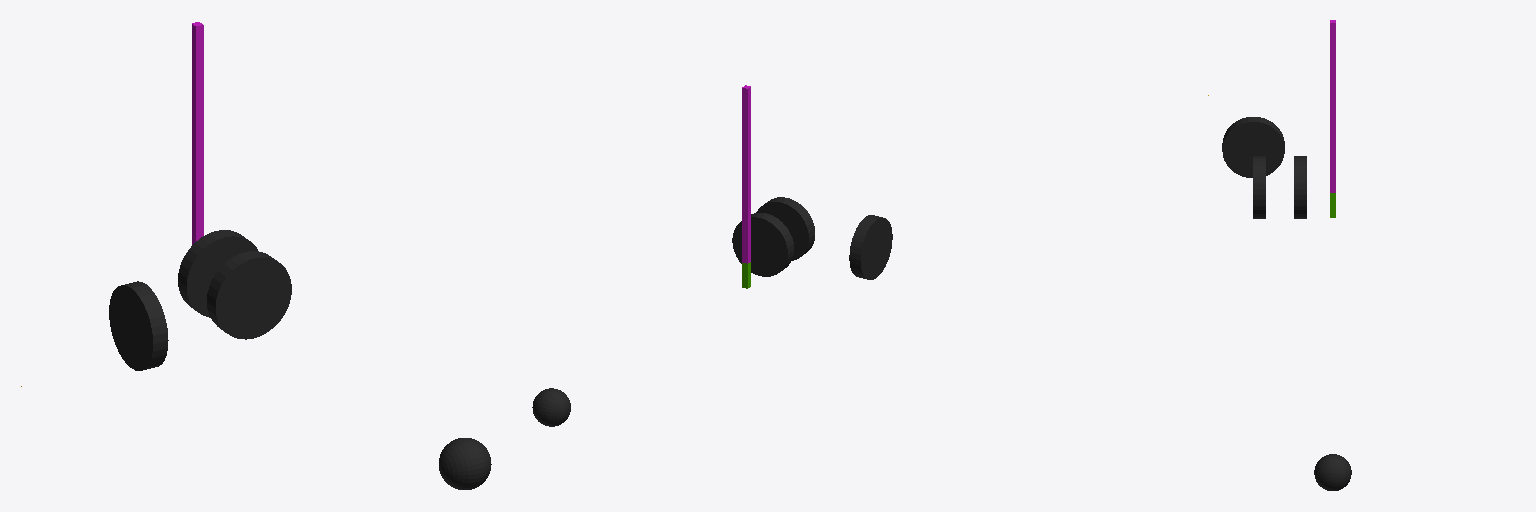
URDF robot description (b1_leg_description):
<?xml version="1.0" ?>
<!-- =================================================================================== -->
<!-- |    This document was autogenerated by xacro from robot.xacro                    | -->
<!-- |    EDITING THIS FILE BY HAND IS NOT RECOMMENDED                                 | -->
<!-- =================================================================================== -->
<robot name="b1_leg_description">
  <material name="grey">
    <color rgba="0.2 0.2 0.2 1.0"/>
  </material>
  <material name="silver">
    <color rgba="0.6980 0.7529 0.8392 1"/>
  </material>
  <material name="transparent_silver">
    <color rgba="0.75 0.75 0.75 0.3"/>
  </material>
  <link name="base">
    <inertial>
      <mass value="1e-6"/>
      <inertia ixx="1e-6" ixy="1e-6" ixz="1e-6" iyy="1e-6" iyz="1e-6" izz="1e-6"/>
    </inertial>
    <visual>
      <origin rpy="0 0 0" xyz="0 0 0"/>
      <geometry>
        <box size="0.001 0.001 0.001"/>
      </geometry>
    </visual>
  </link>
  <joint name="floating_base" type="fixed">
    <origin rpy="0 0 0" xyz="0 0 0"/>
    <parent link="base"/>
    <child link="trunk"/>
  </joint>
  <link name="trunk">
    <visual>
      <origin rpy="0 0 0" xyz="0 0 0"/>
      <geometry>
        <mesh filename="package://example-robot-data/robots/b1_description/meshes/trunk.dae" scale="1 1 1"/>
      </geometry>
      <material name="silver"/>
    </visual>
    <collision>
      <origin rpy="0 0 0" xyz="0 0 0"/>
      <geometry>
        <box size="0.647 0.3 0.15"/>
      </geometry>
    </collision>
    <inertial>
      <origin rpy="0 0 0" xyz="0.008987 0.002243 0.003013"/>
      <mass value="25"/>
      <inertia ixx="0.183142146" ixy="-0.001379002" ixz="-0.027956055" iyy="0.756327752" iyz="0.000193774" izz="0.783777558"/>
    </inertial>
  </link>
  

  <joint name="FL_hip_joint" type="revolute">
    <origin rpy="0 0 0" xyz="0.3455 0.072 0"/>
    <parent link="trunk"/>
    <child link="FL_hip"/>
    <axis xyz="1 0 0"/>
    <dynamics damping="0" friction="0"/>
    <limit effort="91.0035" lower="-0.75" upper="0.75" velocity="19.69"/>
  </joint>
  <joint name="FL_hip_rotor_joint" type="fixed">
    <origin rpy="0 0 0" xyz="0.1955 0.072 0"/>
    <parent link="trunk"/>
    <child link="FL_hip_rotor"/>
  </joint>
  <link name="FL_hip">
    <visual>
      <origin rpy="0 0 0" xyz="0 0 0"/>
      <geometry>
        <mesh filename="package://example-robot-data/robots/b1_description/meshes/hip.dae" scale="1 1 1"/>
      </geometry>
      <material name="silver"/>
    </visual>
    <collision>
      <origin rpy="1.5707963267948966 0 0" xyz="0 0.12675 0"/>
      <geometry>
        <cylinder length="0.04" radius="0.09"/>
      </geometry>
    </collision>
    <inertial>
      <origin rpy="0 0 0" xyz="-0.020298 0.009758 0.000109"/>
      <mass value="2.1"/>
      <inertia ixx="0.00406608" ixy="-0.000288071" ixz="-4.371e-06" iyy="0.008775259" iyz="1.811e-06" izz="0.006060348"/>
    </inertial>
  </link>
  <link name="FL_hip_rotor">
    <visual>
      <origin rpy="0 1.5707963267948966 0" xyz="0 0 0"/>
      <geometry>
        <cylinder length="0.02" radius="0.05"/>
      </geometry>
      <material name="grey"/>
    </visual>
    <collision>
      <origin rpy="0 1.5707963267948966 0" xyz="0 0 0"/>
      <geometry>
        <cylinder length="0.02" radius="0.05"/>
      </geometry>
    </collision>
    <inertial>
      <origin rpy="0 0 0" xyz="0.0 0.0 0.0"/>
      <mass value="0.199"/>
      <inertia ixx="0.00039249" ixy="0.0" ixz="0.0" iyy="0.000219397" iyz="0.0" izz="0.000219397"/>
    </inertial>
  </link>
  <joint name="FL_thigh_joint" type="revolute">
    <origin rpy="0 0 0" xyz="0 0.12675 0"/>
    <parent link="FL_hip"/>
    <child link="FL_thigh"/>
    <axis xyz="0 1 0"/>
    <dynamics damping="0" friction="0"/>
    <limit effort="93.33" lower="-1.0" upper="3.5" velocity="23.32"/>
  </joint>
  <joint name="FL_thigh_rotor_joint" type="fixed">
    <origin rpy="0 0 0" xyz="0.0 0.00935 0"/>
    <parent link="FL_hip"/>
    <child link="FL_thigh_rotor"/>
  </joint>
  <link name="FL_thigh">
    <visual>
      <origin rpy="0 0 0" xyz="0 0 0"/>
      <geometry>
        <mesh filename="package://example-robot-data/robots/b1_description/meshes/thigh.dae" scale="1 1 1"/>
      </geometry>
      <material name="transparent_silver"/>
    </visual>
    <collision>
      <origin rpy="0 1.5707963267948966 0" xyz="0 0 -0.175"/>
      <geometry>
        <box size="0.35 0.05 0.08"/>
      </geometry>
    </collision>
    <inertial>
      <origin rpy="0 0 0" xyz="-0.000235 -0.028704 -0.054169"/>
      <mass value="3.934"/>
      <inertia ixx="0.044459086" ixy="0.000128738" ixz="-0.002343913" iyy="0.046023457" iyz="0.006032996" izz="0.008696078"/>
    </inertial>
  </link>
  <link name="FL_thigh_rotor">
    <visual>
      <origin rpy="1.5707963267948966 0 0" xyz="0 0 0"/>
      <geometry>
        <cylinder length="0.02" radius="0.05"/>
      </geometry>
      <material name="grey"/>
    </visual>
    <collision>
      <origin rpy="1.5707963267948966 0 0" xyz="0 0 0"/>
      <geometry>
        <cylinder length="0.02" radius="0.05"/>
      </geometry>
    </collision>
    <inertial>
      <origin rpy="0 0 0" xyz="0.0 0.0 0.0"/>
      <mass value="0.266"/>
      <inertia ixx="0.000485657" ixy="0.0" ixz="0.0" iyy="0.00091885" iyz="0.0" izz="0.000485657"/>
    </inertial>
  </link>
  <joint name="FL_calf_joint" type="revolute">
    <origin rpy="0 0 0" xyz="0 0 -0.35"/>
    <parent link="FL_thigh"/>
    <child link="FL_calf"/>
    <axis xyz="0 1 0"/>
    <dynamics damping="0" friction="0"/>
    <limit effort="140" lower="-2.6" upper="-0.6" velocity="15.55"/>
  </joint>
  <joint name="FL_calf_rotor_joint" type="fixed">
    <origin rpy="0 0 0" xyz="0.0 -0.0519 0"/>
    <parent link="FL_thigh"/>
    <child link="FL_calf_rotor"/>
  </joint>
  <link name="FL_calf">
    <visual>
      <origin rpy="0 0 0" xyz="0 0 0"/>
      <geometry>
        <mesh filename="package://example-robot-data/robots/b1_description/meshes/calf.dae" scale="1 1 1"/>
      </geometry>
      <material name="">
        <color rgba="0 0.514 0.706 1"/>
      </material>
    </visual>
    <collision>
      <origin rpy="0 1.5707963267948966 0" xyz="0 0 -0.175"/>
      <geometry>
        <box size="0.35 0.04 0.05"/>
      </geometry>
    </collision>
    <inertial>
      <origin rpy="0 0 0" xyz="0.005237 0.0 -0.202805"/>
      <mass value="0.857"/>
      <inertia ixx="0.015011003" ixy="5.2e-08" ixz="0.000250042" iyy="0.015159462" iyz="4.61e-07" izz="0.000375749"/>
    </inertial>
  </link>
  <!-- Crank Bar 1: from FL_calf -->
  <!-- we do not create this link as is part of the calf -->
  <!-- Crank Bar 2: from FL_thigh -->
  <link name="crank_bar2">
    <visual>
      <origin xyz="0 0 0.0215" rpy="0 0 0"/>
      <geometry>
        <box size="0.01 0.01 0.043"/>
      </geometry>
      <material name="">
        <color rgba="0.306 0.718 0 1"/>
      </material>
    </visual>
    <inertial>
      <origin xyz="0 0 0.075"/>
      <mass value="0.1"/>
      <inertia ixx="1e-5" iyy="1e-5" izz="1e-5"
              ixy="0" ixz="0" iyz="0"/>
    </inertial>
  </link>
  <joint name="crank_bar2_thigh" type="revolute">
    <origin xyz="0 0 -0.0515" rpy="0 0 0"/>
    <parent link="FL_thigh"/>
    <child link="crank_bar2"/>
    <axis xyz="0 1 0"/>
    <limit effort="10" velocity="5" lower="-3.14" upper="3.14"/>
  </joint>
  <!-- Link1 Bar 3: actuator bar (split bar) -->
  <!-- <link name="link_1_loop3D_bar3">
    <visual>
      <origin xyz="0 0 0.075" rpy="0 0 0"/>
      <geometry>
        <box size="0.01 0.01 0.15"/>
      </geometry>
      <material name="grey">
        <color rgba="0.824 0.51 0.247 1"/>
      </material>
    </visual>
    <inertial>
      <origin xyz="0 0 0.0215"/>
      <mass value="0.75"/>
      <inertia ixx="1e-5" iyy="1e-5" izz="1e-5"
              ixy="0" ixz="0" iyz="0"/>
    </inertial>
  </link> -->
  <!-- <joint name="link_1_crank_bar1" type="revolute">
    <origin xyz="0.00322198 0 0.04287912" rpy="0 0 0"/>
    <parent link="FL_calf"/>
    <child link="link_1_loop3D_bar3"/>
    <axis xyz="0 1 0"/>
    <limit effort="10" velocity="5" lower="-3.14" upper="3.14"/>
  </joint> -->
  <!-- Link2 Bar 3: actuator bar (split bar) -->
  <link name="link_2_loop3D_bar3">
    <visual>
      <origin xyz="0 0 0.15" rpy="0 0 0"/>
      <geometry>
        <box size="0.01 0.01 0.3"/>
      </geometry>
      <material name="">
        <color rgba="0.8 0.145 0.788 1"/>
      </material>
    </visual>
    <inertial>
      <origin xyz="0 0 0.0215"/>
      <mass value="0.75"/>
      <inertia ixx="1e-5" iyy="1e-5" izz="1e-5"
              ixy="0" ixz="0" iyz="0"/>
    </inertial>
  </link>
  <joint name="link_2_crank_bar2" type="revolute">
    <origin xyz="0 0 0.043" rpy="0 0 0"/>
    <parent link="crank_bar2"/>
    <child link="link_2_loop3D_bar3"/>
    <axis xyz="0 1 0"/>
    <limit effort="10" velocity="5" lower="-3.14" upper="3.14"/>
  </joint>
  <!-- Dummy link for the constraint -->
  <link name="closedloop3D_1A">
  </link>
  <joint name="closedloop3D_1A_frame" type="fixed">
    <origin xyz="0 0 0.3" rpy="0 3.1415 0"/> 
    <parent link="link_2_loop3D_bar3" />
    <child link="closedloop3D_1A" />
    <axis xyz="0 0 0" />
  </joint>
  <link name="closedloop3D_1B">
  </link>
  <joint name="closedloop3D_1B_frame" type="fixed">
    <origin xyz="0.00322198 0 0.04287912" rpy="0 0 0"/>
    <parent link="FL_calf" />
    <child link="closedloop3D_1B" />
    <axis xyz="0 0 0" />
  </joint>

  <link name="FL_calf_rotor">
    <visual>
      <origin rpy="1.5707963267948966 0 0" xyz="0 0 0"/>
      <geometry>
        <cylinder length="0.02" radius="0.05"/>
      </geometry>
      <material name="grey"/>
    </visual>
    <collision>
      <origin rpy="1.5707963267948966 0 0" xyz="0 0 0"/>
      <geometry>
        <cylinder length="0.02" radius="0.05"/>
      </geometry>
    </collision>
    <inertial>
      <origin rpy="0 0 0" xyz="0.0 0.0 0.0"/>
      <mass value="0.266"/>
      <inertia ixx="0.000485657" ixy="0.0" ixz="0.0" iyy="0.00091885" iyz="0.0" izz="0.000485657"/>
    </inertial>
  </link>
  <joint name="FL_foot_fixed" type="fixed">
    <origin rpy="0 0 0" xyz="0 0 -0.35"/>
    <parent link="FL_calf"/>
    <child link="FL_foot"/>
  </joint>
  <link name="FL_foot">
    <visual>
      <origin rpy="0 0 0" xyz="0 0 0"/>
      <geometry>
        <sphere radius="0.03"/>
      </geometry>
      <material name="grey"/>
    </visual>
    <collision>
      <origin rpy="0 0 0" xyz="0 0 0"/>
      <geometry>
        <sphere radius="0.04"/>
      </geometry>
    </collision>
    <inertial>
      <mass value="0.05"/>
      <inertia ixx="3.2000000000000005e-05" ixy="0.0" ixz="0.0" iyy="3.2000000000000005e-05" iyz="0.0" izz="3.2000000000000005e-05"/>
    </inertial>
  </link>
  <transmission name="FL_hip_tran">
    <type>transmission_interface/SimpleTransmission</type>
    <joint name="FL_hip_joint">
      <hardwareInterface>hardware_interface/EffortJointInterface</hardwareInterface>
    </joint>
    <actuator name="FL_hip_motor">
      <hardwareInterface>hardware_interface/EffortJointInterface</hardwareInterface>
      <mechanicalReduction>1</mechanicalReduction>
    </actuator>
  </transmission>
  <transmission name="FL_thigh_tran">
    <type>transmission_interface/SimpleTransmission</type>
    <joint name="FL_thigh_joint">
      <hardwareInterface>hardware_interface/EffortJointInterface</hardwareInterface>
    </joint>
    <actuator name="FL_thigh_motor">
      <hardwareInterface>hardware_interface/EffortJointInterface</hardwareInterface>
      <mechanicalReduction>1</mechanicalReduction>
    </actuator>
  </transmission>
  <transmission name="FL_calf_tran">
    <type>transmission_interface/SimpleTransmission</type>
    <joint name="FL_calf_joint">
      <hardwareInterface>hardware_interface/EffortJointInterface</hardwareInterface>
    </joint>
    <actuator name="FL_calf_motor">
      <hardwareInterface>hardware_interface/EffortJointInterface</hardwareInterface>
      <mechanicalReduction>1</mechanicalReduction>
    </actuator>
  </transmission>
  <!-- <xacro:stairs stairs="15" xpos="0" ypos="2.0" zpos="0" /> -->
</robot>

--- Render facts (derived) ---
The picture shows the robot from 3 angles, left to right: view 1: azimuth 30°, elevation 25°; view 2: azimuth 150°, elevation 25°; view 3: azimuth 270°, elevation 25°; orthographic projection.
Robot: b1_leg_description — 13 links, 12 joints (5 revolute, 7 fixed); root link base; default pose: all joints at 0 but 1 set to mid-range because 0 is outside their limits (FL_calf_joint = -1.6).
Visible links, largest first — view 1: FL_thigh_rotor, FL_hip_rotor, FL_calf_rotor, link_2_loop3D_bar3, FL_foot; view 2: FL_calf_rotor, FL_hip_rotor, FL_thigh_rotor, link_2_loop3D_bar3, FL_foot; view 3: FL_hip_rotor, FL_foot, link_2_loop3D_bar3, FL_thigh_rotor, FL_calf_rotor.
Link boxes in pixels (x1,y1,x2,y2): FL_thigh_rotor: (207, 251, 291, 339); FL_hip_rotor: (109, 281, 168, 370); FL_calf_rotor: (178, 230, 257, 317); link_2_loop3D_bar3: (192, 22, 203, 244); FL_foot: (439, 438, 491, 489); FL_calf_rotor: (732, 213, 793, 276); FL_hip_rotor: (849, 215, 892, 279); FL_thigh_rotor: (756, 197, 814, 260); link_2_loop3D_bar3: (742, 85, 750, 263); FL_foot: (532, 388, 570, 426); FL_hip_rotor: (1222, 117, 1284, 177); FL_foot: (1314, 454, 1351, 490); link_2_loop3D_bar3: (1330, 20, 1335, 192); FL_thigh_rotor: (1253, 156, 1265, 218); FL_calf_rotor: (1294, 156, 1306, 218).
Size in the robot's own frame: 0.7258 by 0.2292 by 0.6613 metres.
0 mesh visuals loaded from 4 distinct referenced files (none loaded); not drawn: 4 (reference not matched to a file when rendering).
